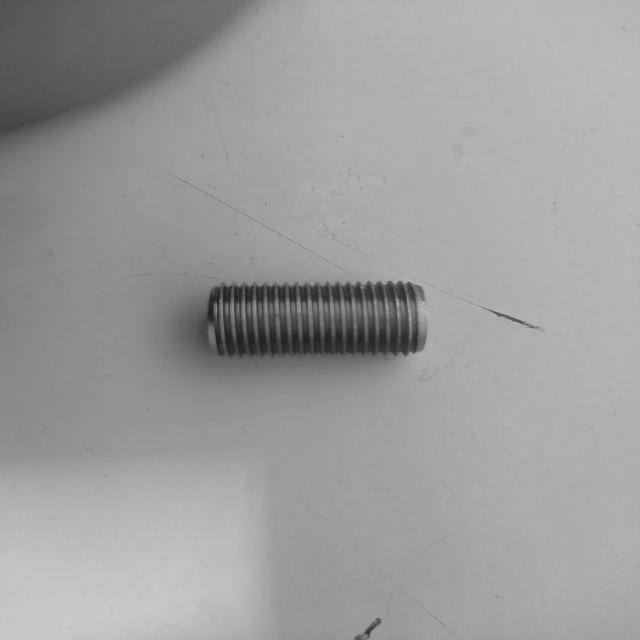Normal: (204, 280, 430, 360)
